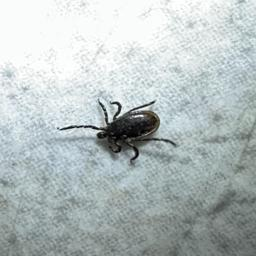Ixodes scapularis: (57, 97, 177, 164)
